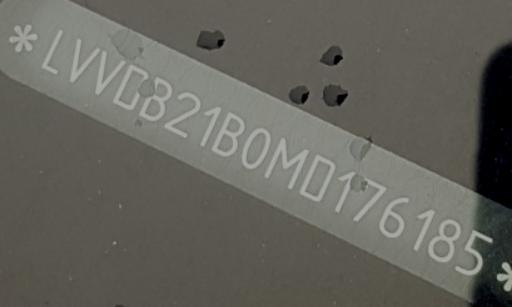letter: (263, 136, 311, 191), (452, 227, 494, 278), (297, 154, 337, 202), (161, 91, 201, 138), (348, 176, 388, 222), (111, 64, 149, 112), (425, 217, 461, 264), (92, 49, 126, 97), (210, 112, 246, 157), (138, 76, 172, 123), (68, 37, 100, 84), (378, 193, 410, 239), (240, 126, 272, 169), (40, 25, 64, 76), (332, 168, 358, 215), (196, 106, 224, 148), (412, 206, 436, 252)
